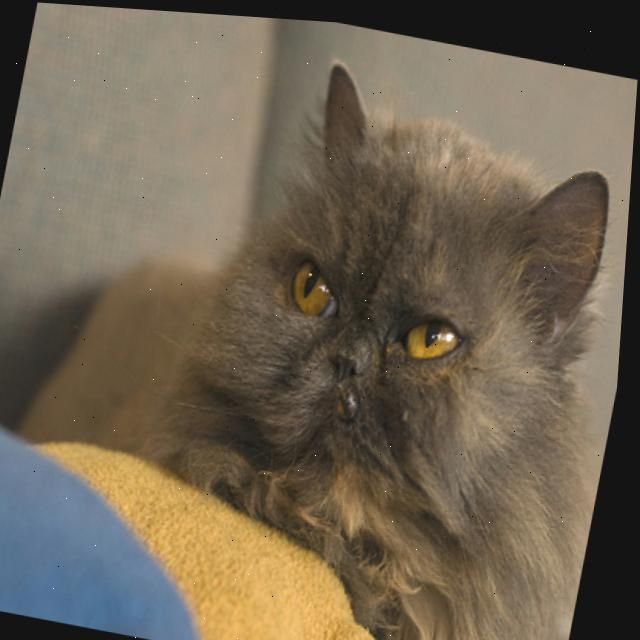Persian: (0, 1, 640, 640)
